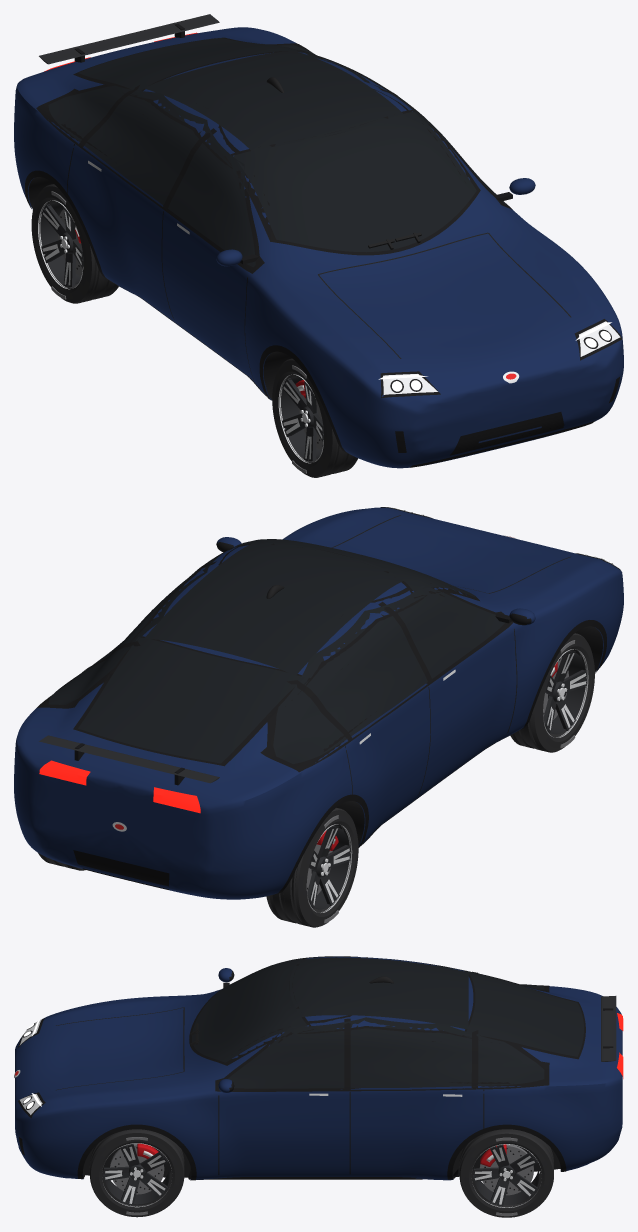
File: modelyp.glb
The picture shows the model from 3 angles, top to bottom: view 1: azimuth 30°, elevation 25°; view 2: azimuth 150°, elevation 25°; view 3: azimuth 270°, elevation 25°; orthographic projection. The views are drawn at different scales.
Parts seen in each view (by area): view 1: Body, Wheel_RR, Wheel_FR; view 2: Body, Wheel_RR, Wheel_FR; view 3: Body, Wheel_RL, Wheel_FL.
Boxes of the visible parts, box(x1,y1,x2,y2) form: Body: box(14, 14, 623, 468); Wheel_RR: box(31, 184, 118, 303); Wheel_FR: box(272, 358, 357, 477); Body: box(14, 506, 623, 899); Wheel_RR: box(266, 808, 358, 927); Wheel_FR: box(510, 633, 594, 752); Body: box(14, 956, 623, 1180); Wheel_RL: box(459, 1129, 553, 1217); Wheel_FL: box(89, 1129, 184, 1217).
Size of the model in its own units: 2.22 by 1.65 by 4.77.
